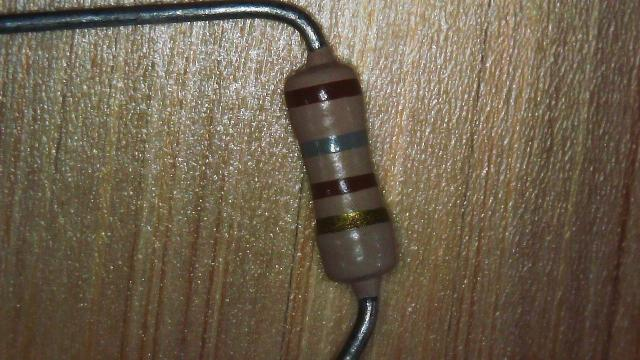brown: (286, 78, 361, 109), (312, 172, 376, 200)
gold: (316, 207, 389, 235)
grey: (300, 129, 367, 157)
resistor: (257, 54, 423, 296)
